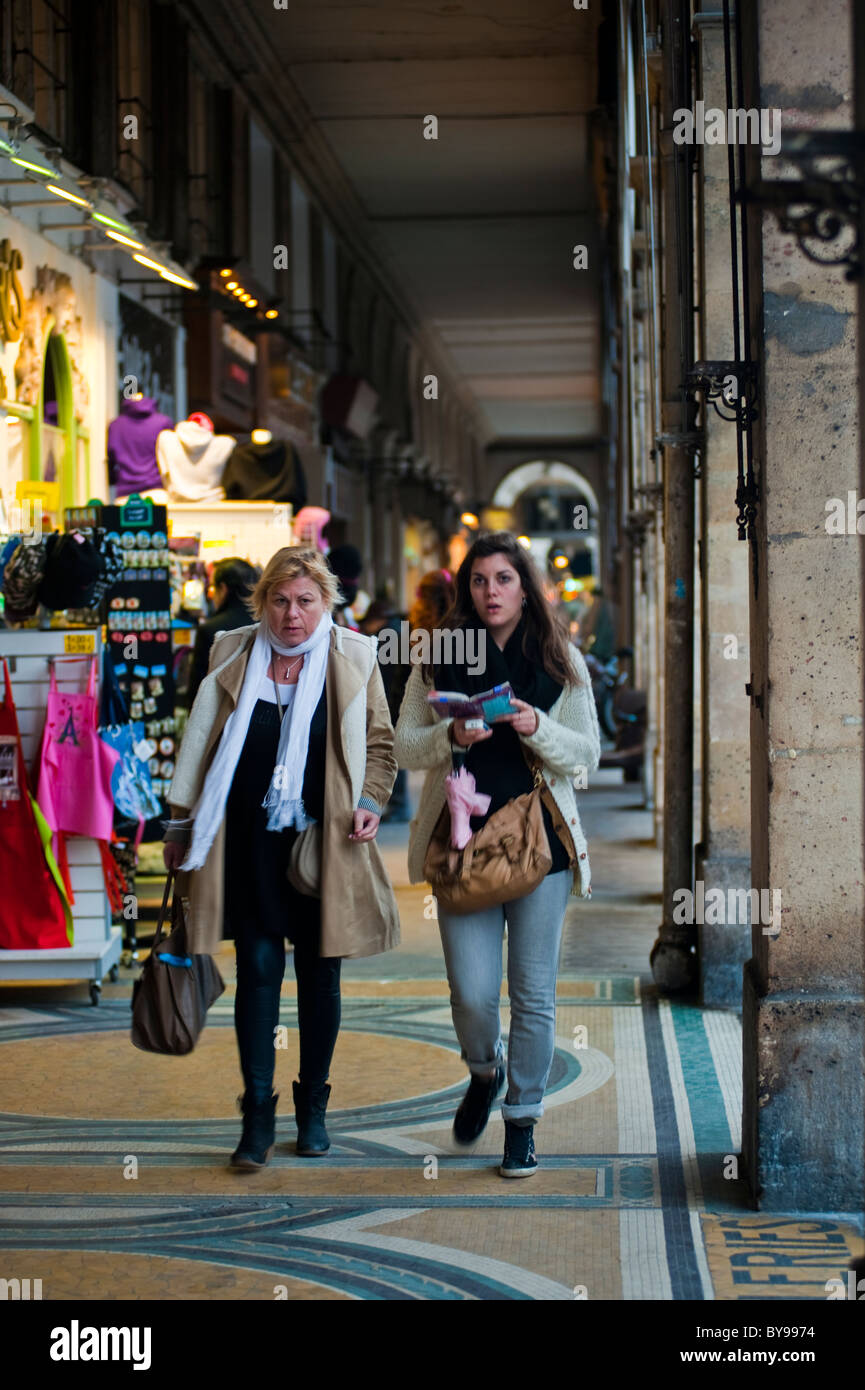person: (162, 540, 395, 1177), (389, 529, 604, 1181)
